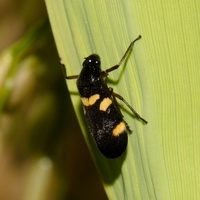insect: (65, 35, 147, 157)
